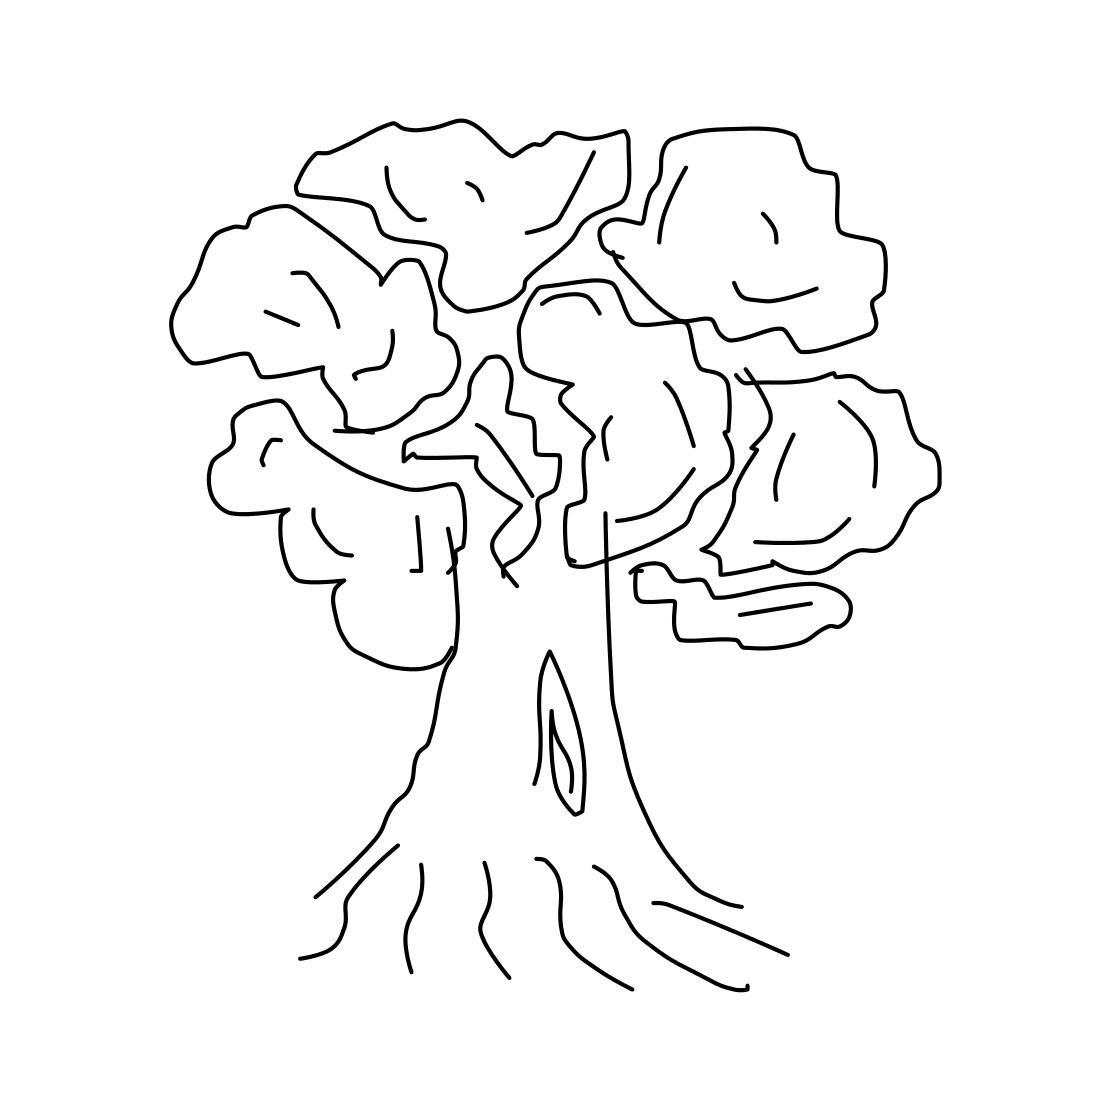Tree: (147, 95, 943, 1022)
